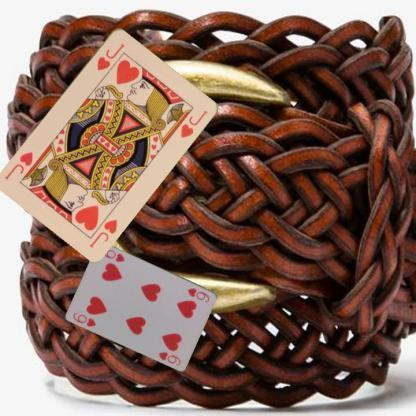6h: (70, 310, 98, 328), (185, 286, 211, 304)
Jh: (86, 216, 119, 249), (94, 40, 126, 72)
